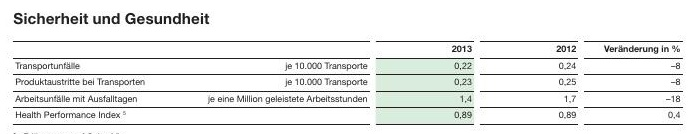table: (0, 0, 695, 134)
